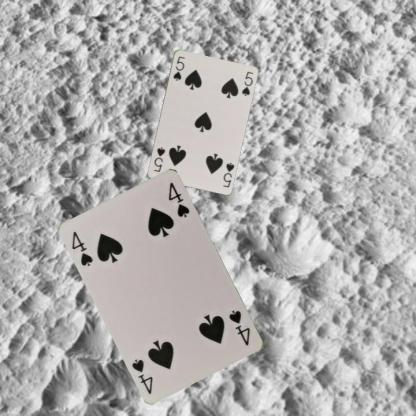4s: (226, 308, 252, 348), (69, 228, 95, 268)
5s: (170, 53, 186, 82), (220, 160, 235, 188)
